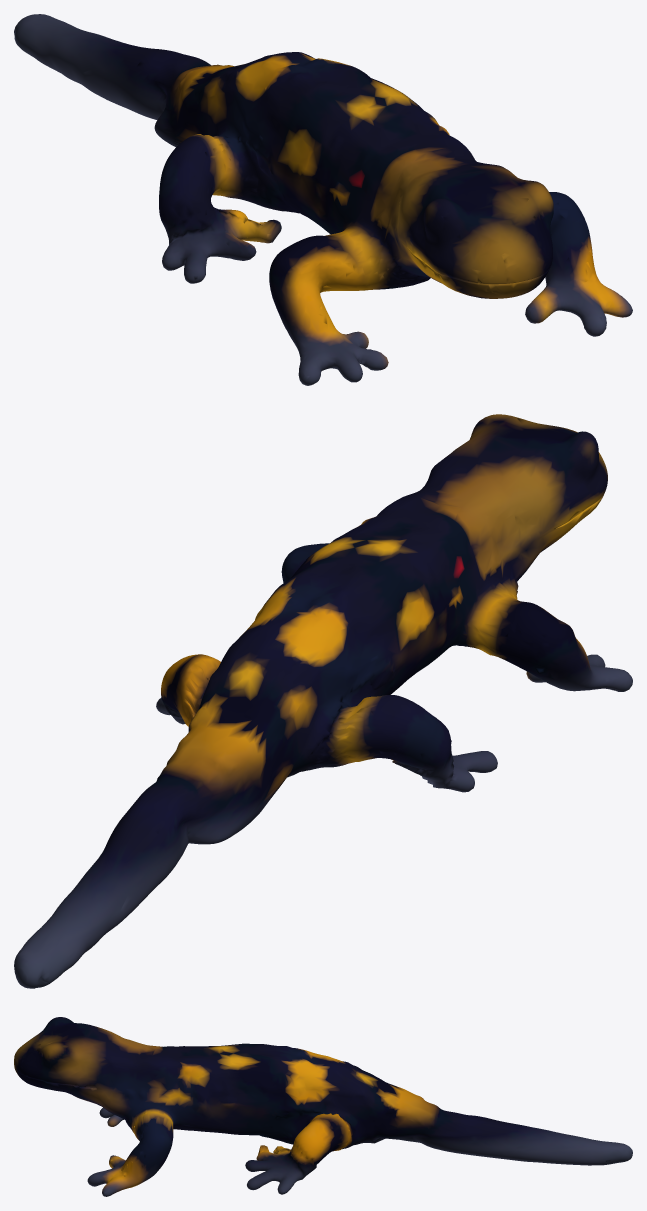
The model's file is firesal.glb.
3 renders of one model, top to bottom at view 1: azimuth 30°, elevation 25°; view 2: azimuth 150°, elevation 25°; view 3: azimuth 270°, elevation 25°, orthographic. The views are drawn at different scales.
Visible parts, largest first — view 1: firesal; view 2: firesal; view 3: firesal.
Boxes of the visible parts, x1,y1,x2,y2 form: firesal: [14, 14, 632, 385]; firesal: [14, 414, 632, 988]; firesal: [14, 1017, 632, 1196].
Size of the model in its own units: 0.0573 by 0.0358 by 0.16.
